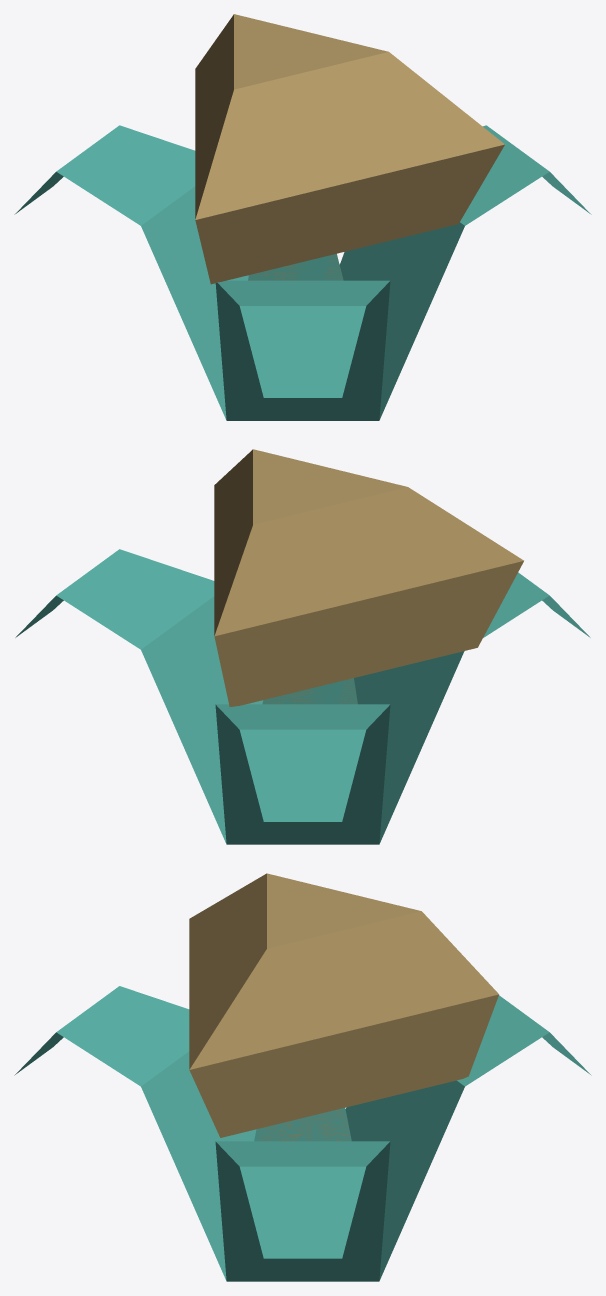
File: flower_yellow.fbx
The picture shows the model from 3 angles, top to bottom: view 1: azimuth 30°, elevation 25°; view 2: azimuth 150°, elevation 25°; view 3: azimuth 270°, elevation 25°; orthographic projection.
Visible parts, largest first — view 1: flower_yellowB; view 2: flower_yellowB; view 3: flower_yellowB.
Part boxes in pixels (left/top/right/bottom): flower_yellowB: left=14, top=14, right=591, bottom=420; flower_yellowB: left=15, top=449, right=590, bottom=844; flower_yellowB: left=14, top=873, right=591, bottom=1281.
Bounding box in the file's own units: 0.4334 × 0.3313 × 0.5.
